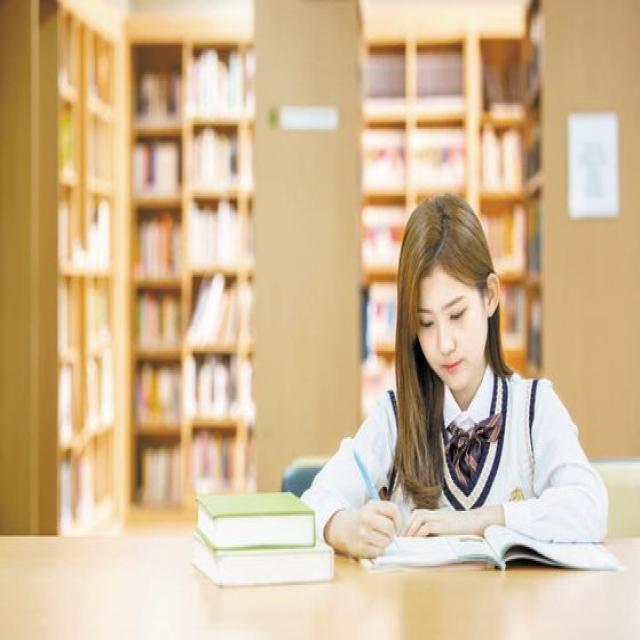studying-person: (191, 186, 624, 612)
